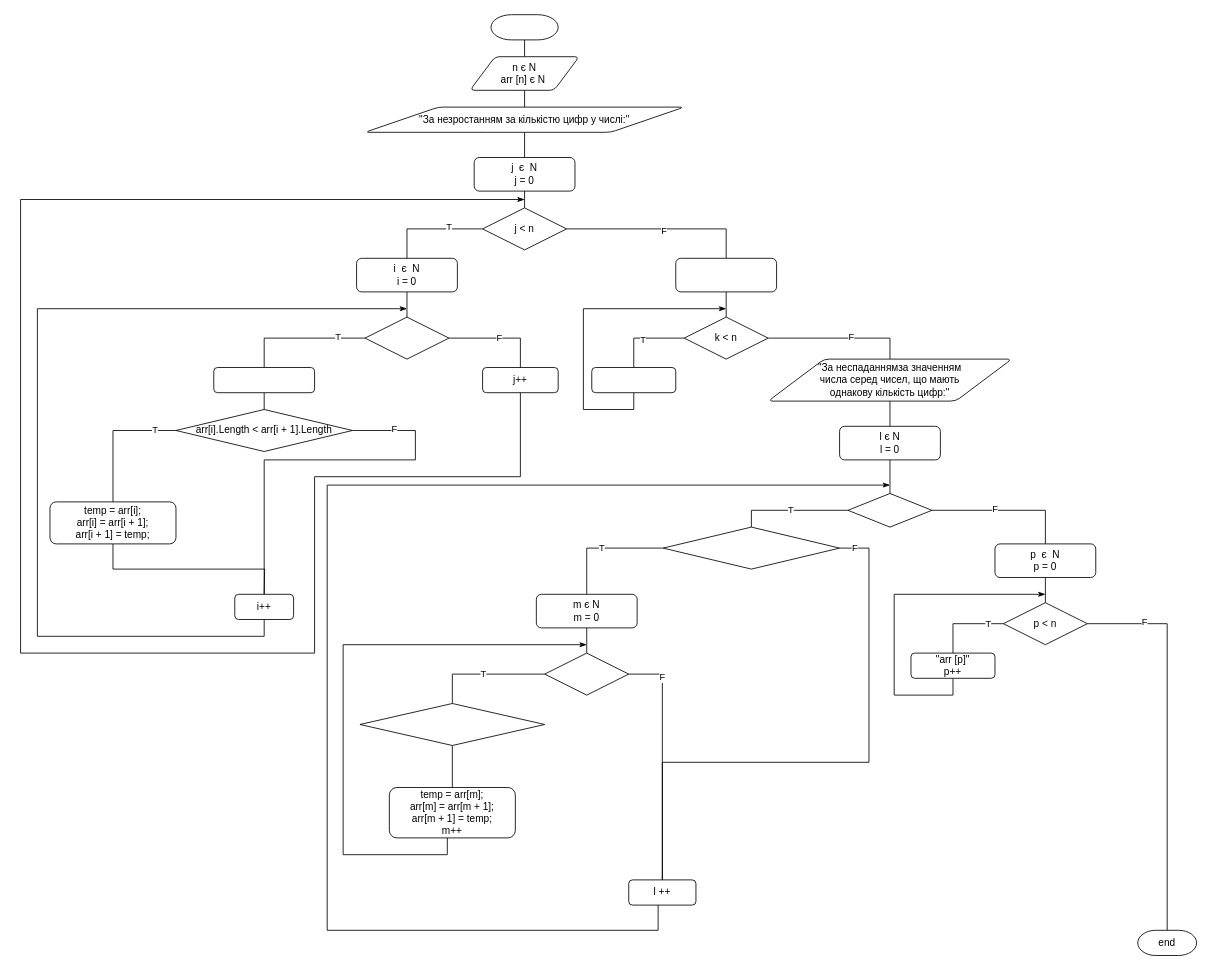
The diagram is 1211 pixels wide and 970 high, and some of its shapes have lost their labels. Here are the shapes that lost their labels. From the top down, the box of each, then its label:
(490, 14, 558, 40): start
(675, 257, 777, 292): k є N k = 0
(364, 316, 449, 359): i < n - 1 - j
(213, 367, 315, 393): temp є N
(591, 367, 676, 393): "arr [k]" k++
(847, 493, 932, 527): l < n - 1
(662, 526, 840, 569): arr[l].Length >= arr[l + 1].Length
(544, 652, 629, 695): m < n - 1 - j
(359, 703, 545, 746): arr[m].Length == arr[m + 1].Length
